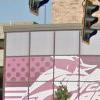Traffic light: (78, 3, 100, 50)
